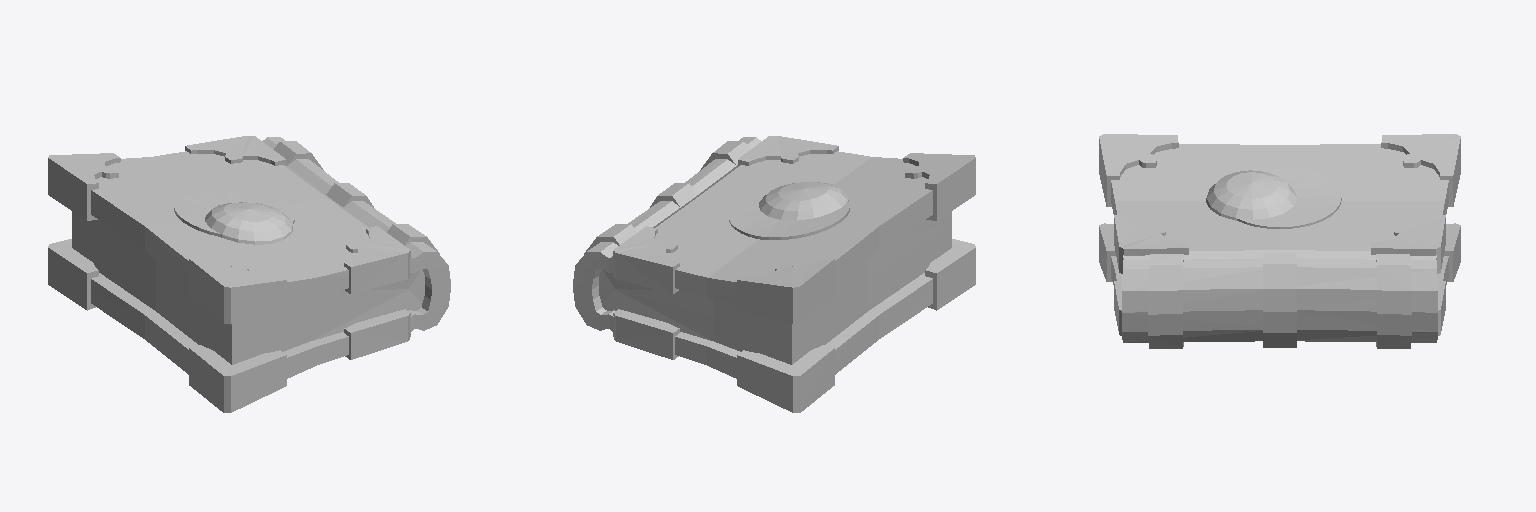
Rendered from Anachronists_Treasure.obj.
3 renders of one model, left to right at view 1: azimuth 30°, elevation 25°; view 2: azimuth 150°, elevation 25°; view 3: azimuth 270°, elevation 25°, orthographic.
Parts seen in each view (by area): view 1: Anachronists_Treasure_0; view 2: Anachronists_Treasure_0; view 3: Anachronists_Treasure_0.
Part boxes in pixels (left/top/right/bottom): Anachronists_Treasure_0: left=48, top=136, right=450, bottom=412; Anachronists_Treasure_0: left=573, top=136, right=975, bottom=412; Anachronists_Treasure_0: left=1099, top=134, right=1460, bottom=348.
Bounding box in the file's own units: 0.373 × 0.1878 × 0.4857.